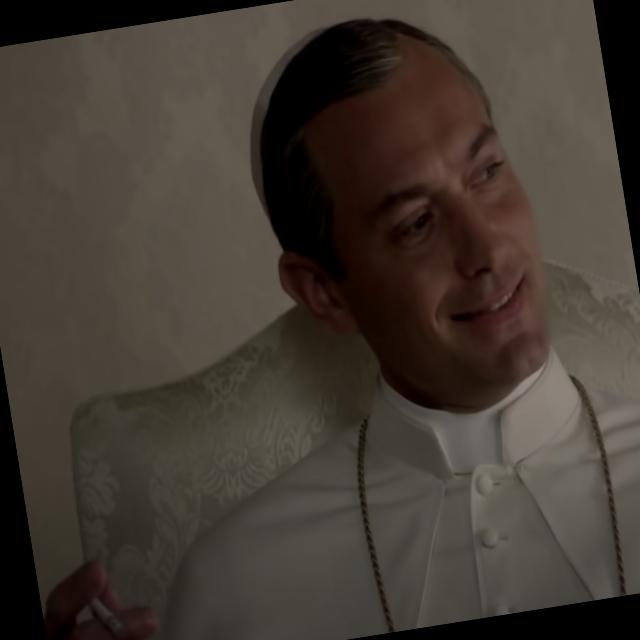smoke: (86, 591, 139, 640)
